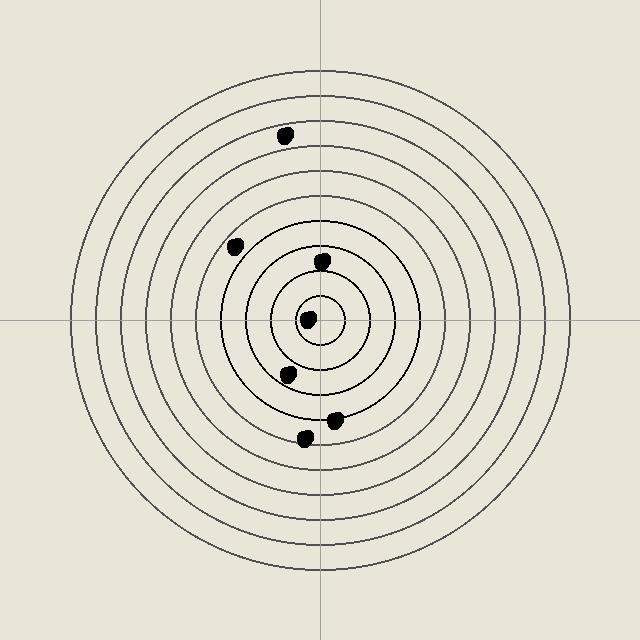vertical_scatter: (297, 309, 317, 329), (311, 251, 331, 271), (294, 428, 314, 448), (277, 364, 297, 384), (224, 236, 244, 256), (324, 410, 344, 430), (274, 125, 294, 145)
